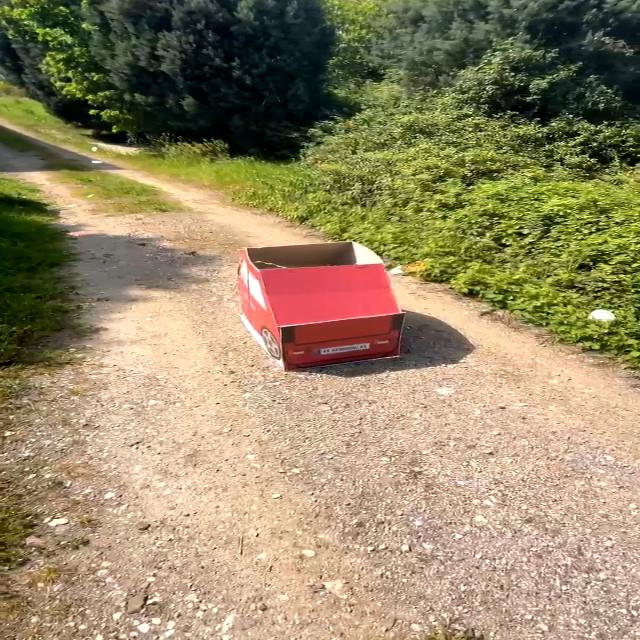red_car: (213, 240, 469, 385)
